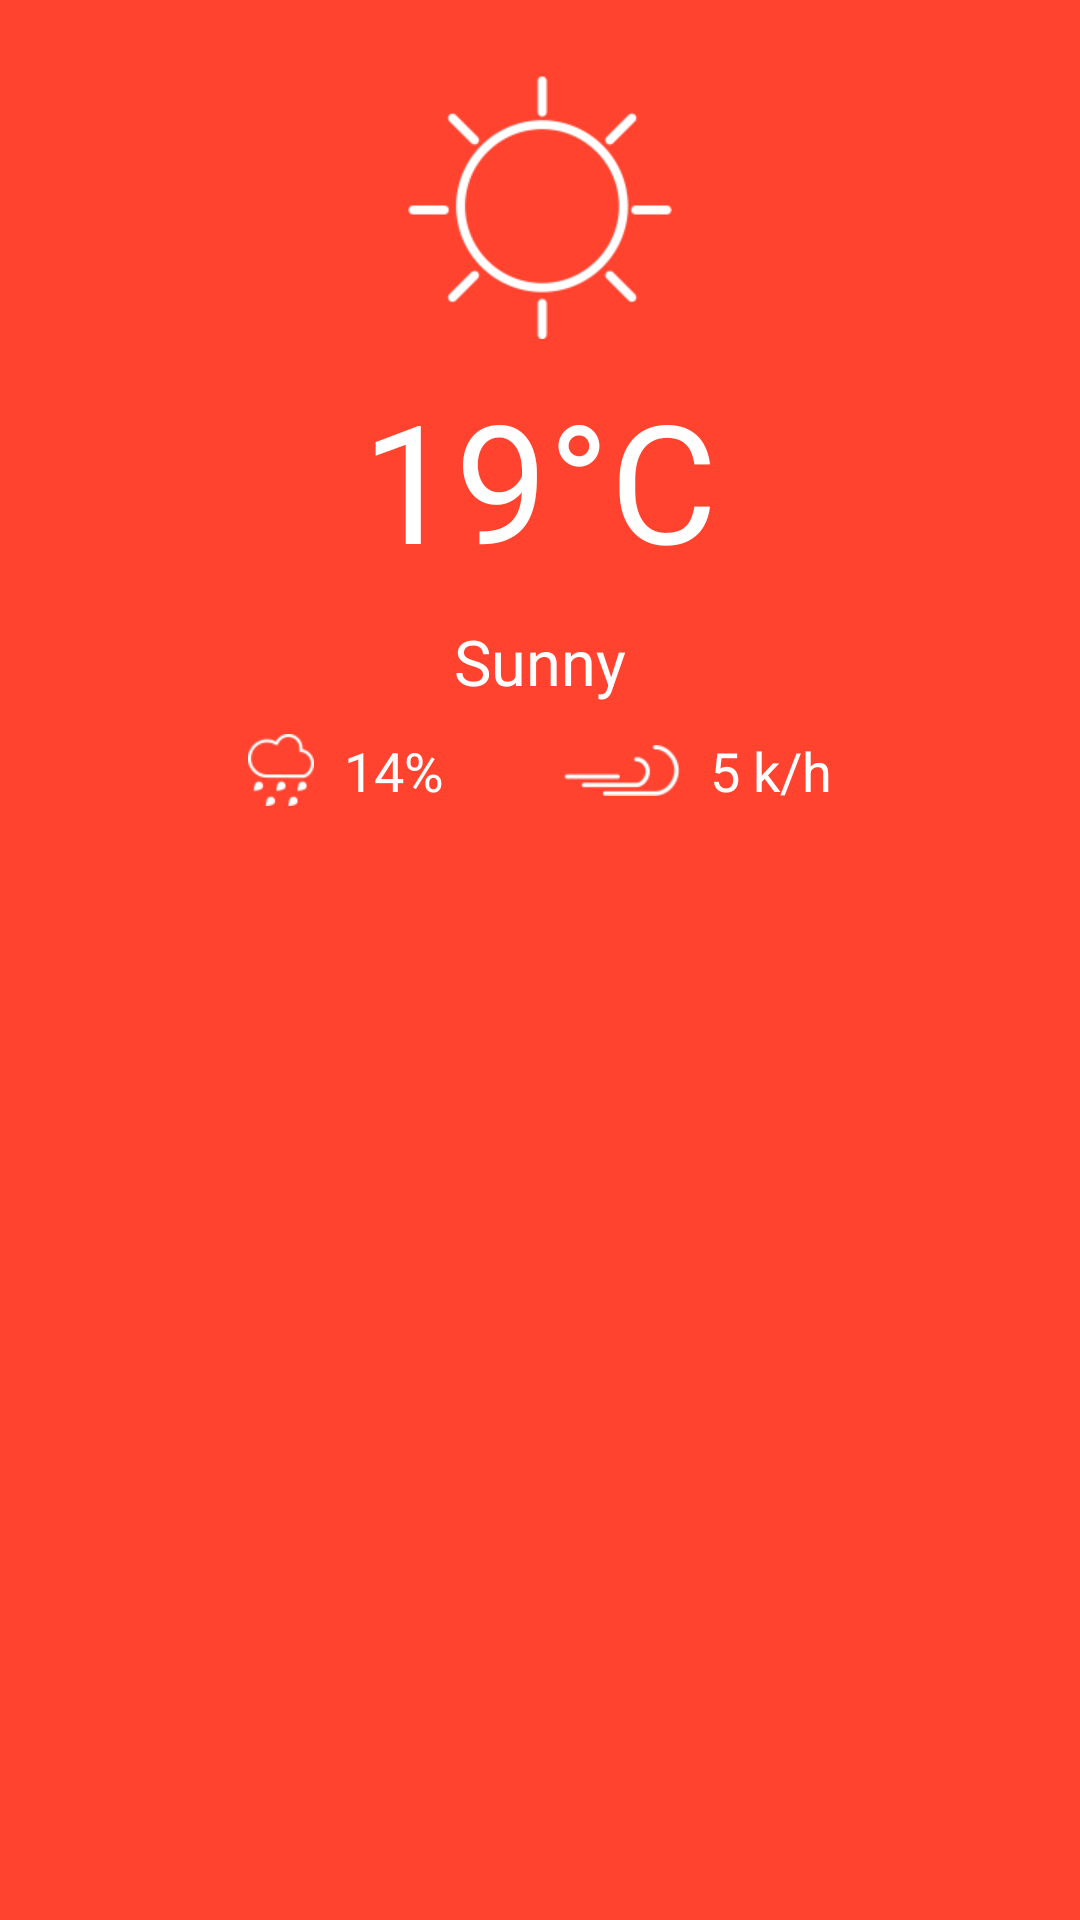

Icons on this 1080×1920 Android screen, each with the point to tap as (x,y):
sunny: (540,207)
